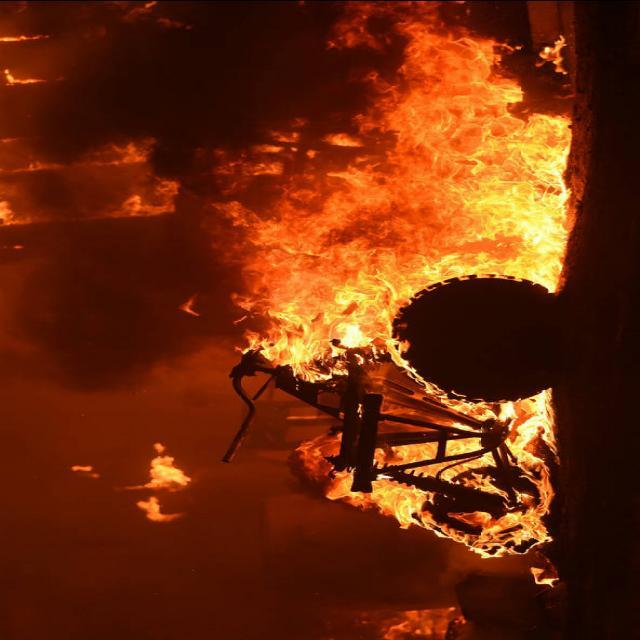Fire: (186, 6, 580, 556)
